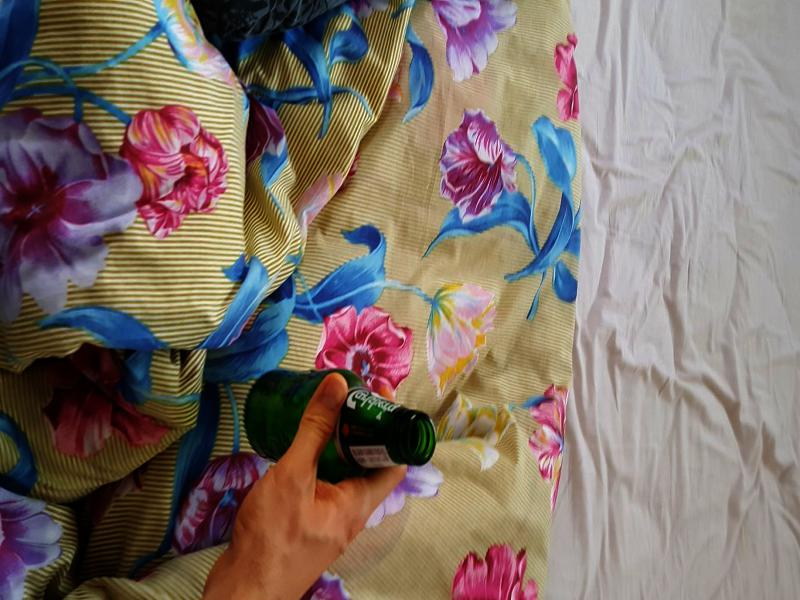Beer: (243, 371, 432, 483)
